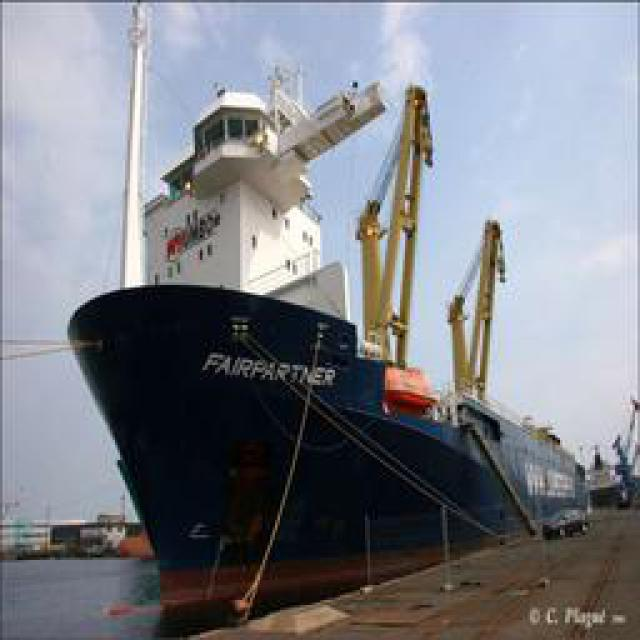Ship: (57, 8, 604, 613)
